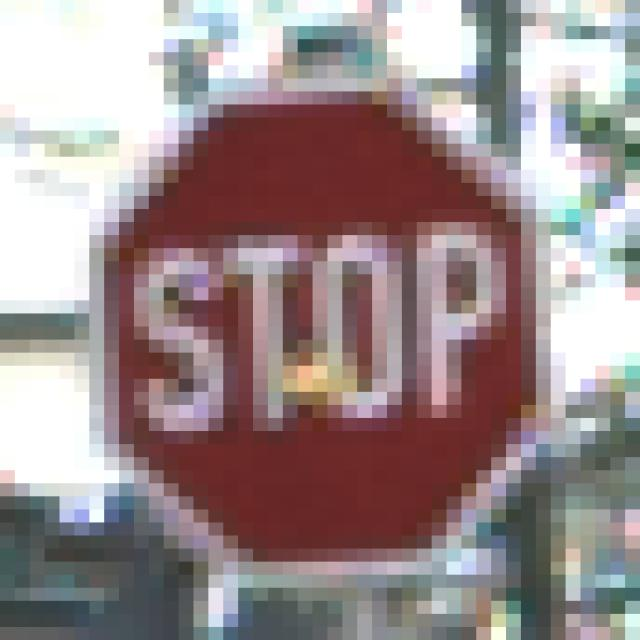STOP: (76, 66, 567, 576)
